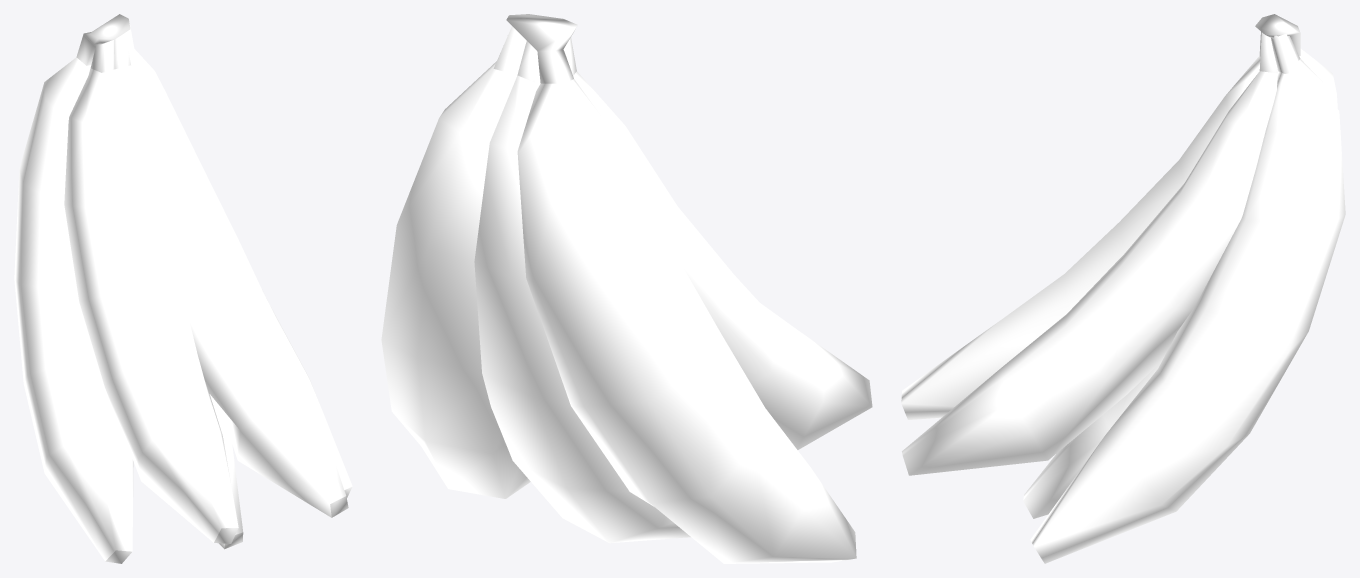
File: BananaBunchSilver.glb
The picture shows the model from 3 angles, left to right: view 1: azimuth 30°, elevation 25°; view 2: azimuth 150°, elevation 25°; view 3: azimuth 270°, elevation 25°; orthographic projection. The views are drawn at different scales.
Parts seen in each view (by area): view 1: BananaBunchSilver; view 2: BananaBunchSilver; view 3: BananaBunchSilver.
Boxes of the visible parts, <box> form: BananaBunchSilver: <box>14,14,352,563</box>; BananaBunchSilver: <box>381,14,872,563</box>; BananaBunchSilver: <box>901,14,1345,563</box>.
Bounding box in the file's own units: 0.2257 × 0.368 × 0.3025.
1 material, 1 textured.
